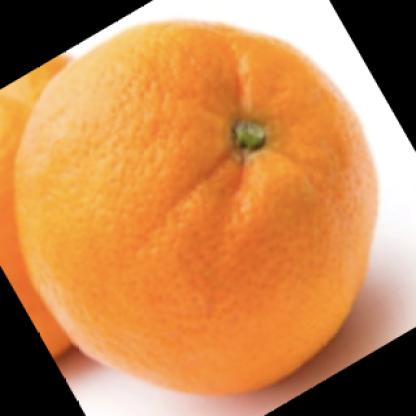fresh: (17, 22, 377, 396)
